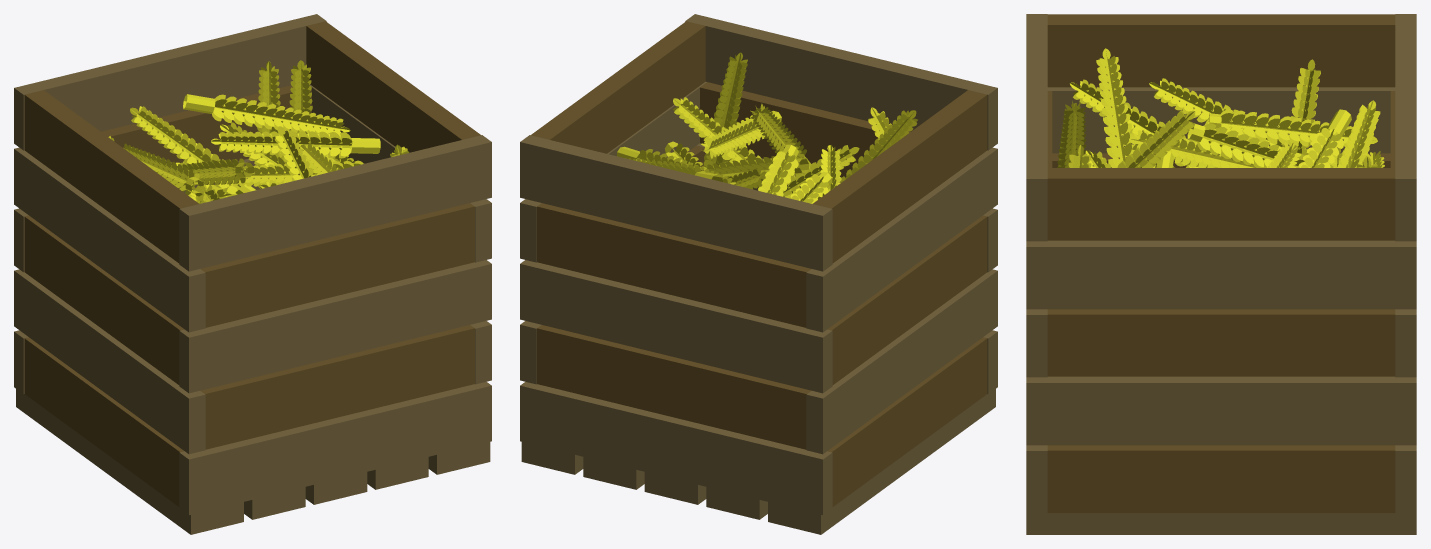
File: Wheed_Сrop.fbx
3 views of the same model, side by side, from view 1: azimuth 30°, elevation 25°; view 2: azimuth 150°, elevation 25°; view 3: azimuth 270°, elevation 25° (orthographic). The views are drawn at different scales.
Parts seen in each view (by area): view 1: Wheed_Сrop; view 2: Wheed_Сrop; view 3: Wheed_Сrop.
Part boxes in pixels (box(x1,y1,x2,y2)): Wheed_Сrop: box(14, 14, 491, 534); Wheed_Сrop: box(520, 14, 997, 534); Wheed_Сrop: box(1026, 14, 1416, 534).
Bounding box in the file's own units: 37.5 × 37.5 × 37.8.
